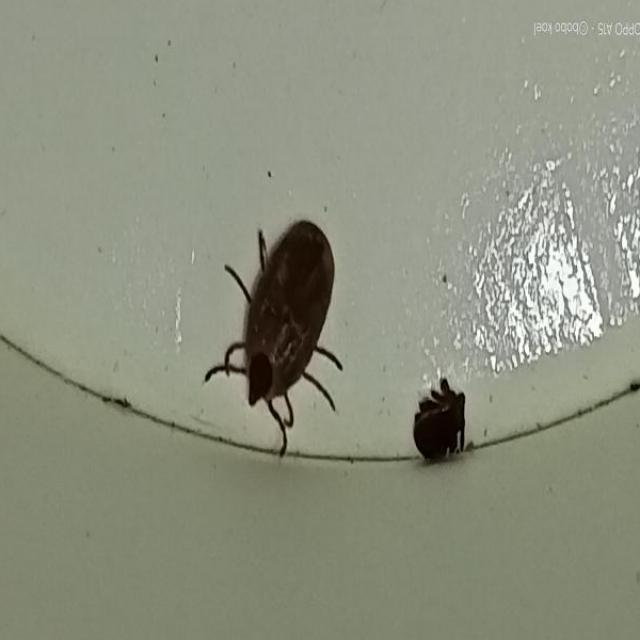Rhipicephalus Sanguineus-F-Fed: (204, 218, 343, 461)
Rhipicephalus Sanguineus-M: (409, 370, 468, 468)
